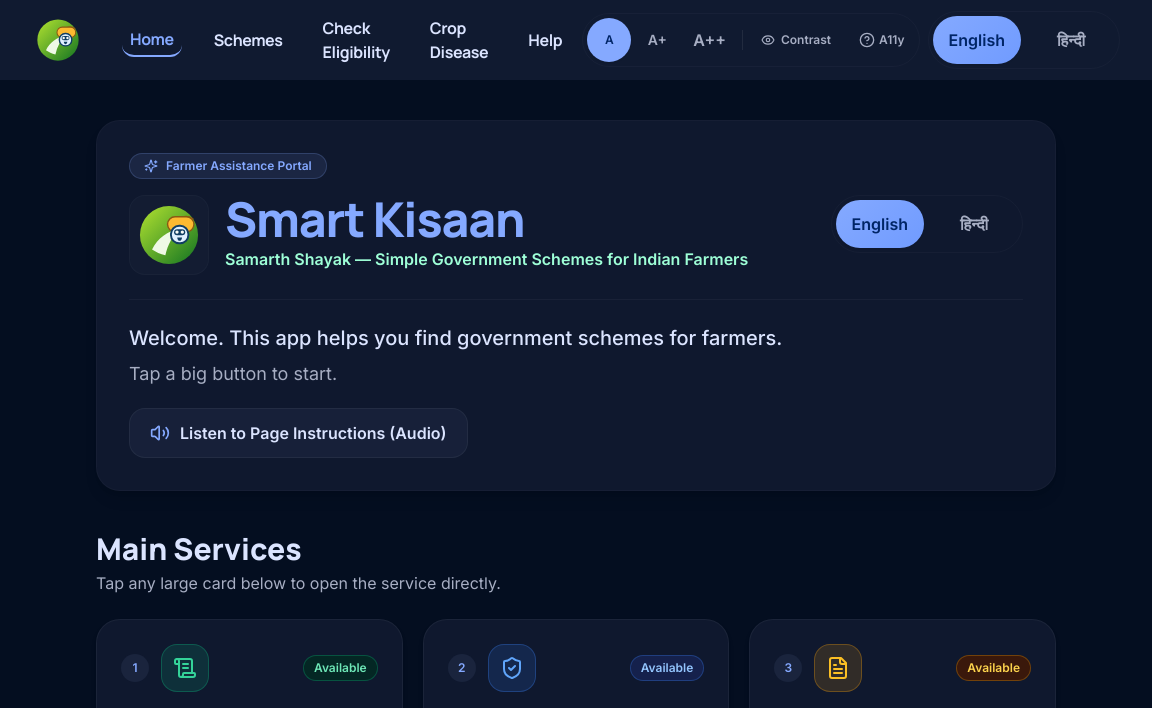
it: Phase 1 — Feature 6: Basic Accessibility Controls › Accessibility Modal Dialog & Keyboard Trap › closes modal on Escape key press
The image size is (1152, 708).
Click the button named "accessibility support & settings" at (882, 40), box [849,18,914,62]
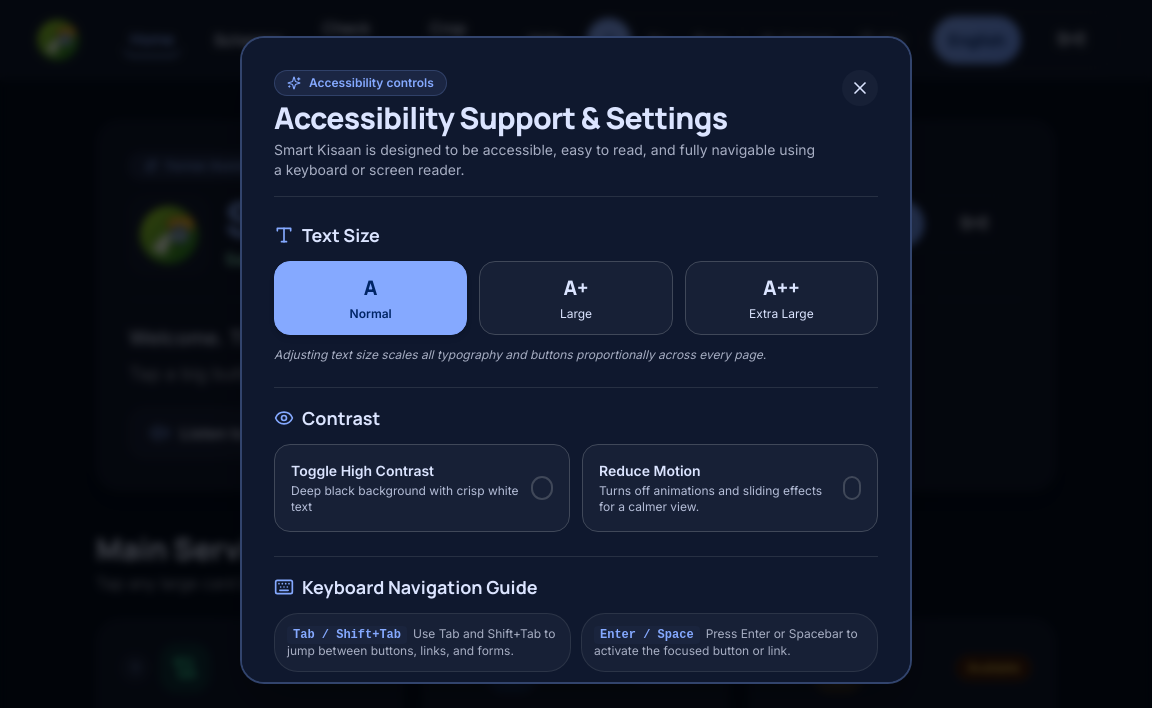
Expected: the dialog is shown, [240,36,912,684]
Press Escape
Press Escape
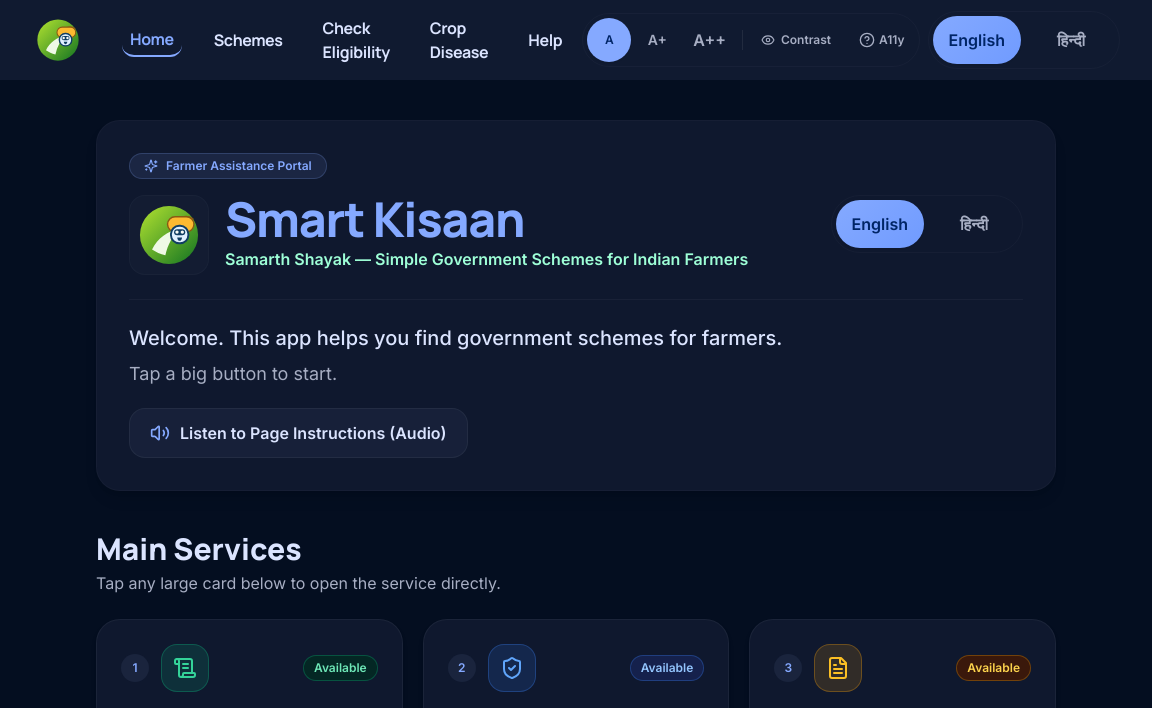
Expected: the dialog is gone
